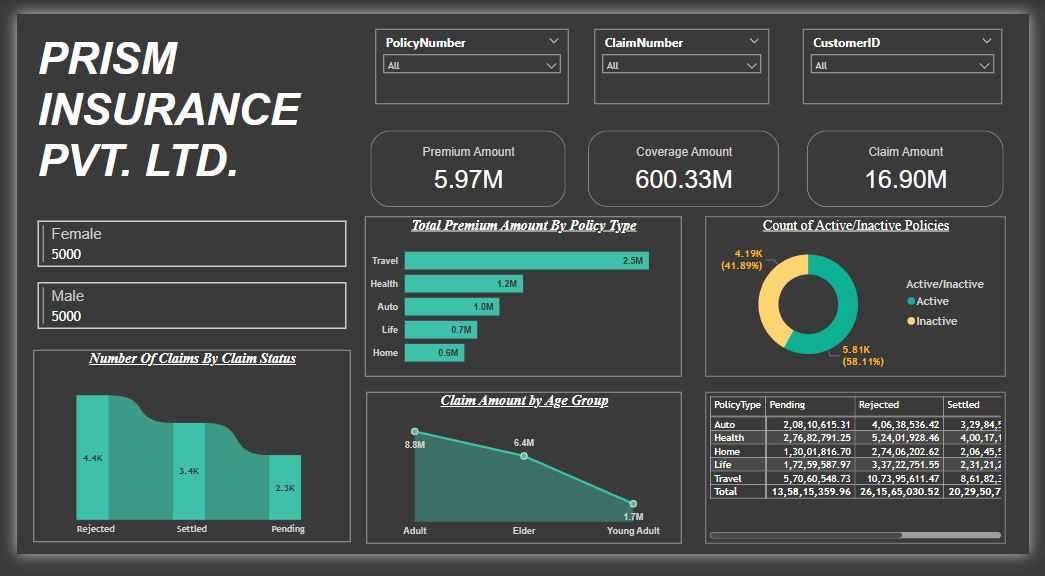

What the dashboard file says about the page in this screenshot:
{"tool":"powerbi","page":{"name":"Insurance Dashboard","canvas":[1350,720],"ordinal":0},"visuals":[{"type":"slicer","fields":{"Values":["InsuranceData.PolicyNumber"]},"box":[477.5,20,257.5,100],"z":0},{"type":"slicer","fields":{"Values":["InsuranceData.ClaimNumber"]},"box":[770,20,232.5,100],"z":1000},{"type":"slicer","fields":{"Values":["InsuranceData.CustomerID"]},"box":[1047.5,20,265,100],"z":2000},{"type":"textbox","box":[22.5,20,422.5,245],"z":3000},{"type":"cardVisual","fields":{"Data":["Sum(InsuranceData.PremiumAmount)"]},"box":[465,150,270,112.5],"z":4000},{"type":"cardVisual","fields":{"Data":["Sum(InsuranceData.CoverageAmount)"]},"box":[755,150,265,112.5],"z":5000},{"type":"cardVisual","fields":{"Data":["Sum(InsuranceData.ClaimAmount)"]},"box":[1047.1,150,272.9,112.9],"z":6000},{"type":"multiRowCard","fields":{"Values":["InsuranceData.Gender","CountNonNull(InsuranceData.Gender)"]},"box":[22.5,270,422.5,180],"z":7000},{"type":"ribbonChart","title":"Number Of Claims By Claim Status","fields":{"Category":["InsuranceData.ClaimStatus"],"Y":["CountNonNull(InsuranceData.ClaimStatus)"]},"box":[22.9,448.6,422.9,255.7],"z":8000},{"type":"barChart","title":"Total Premium Amount By Policy Type","fields":{"Y":["Sum(InsuranceData.PremiumAmount)"],"Category":["InsuranceData.PolicyType"]},"box":[464,270,422,213],"z":9000},{"type":"lineChart","title":"Claim Amount by Age Group","fields":{"Category":["InsuranceData.Age Group"],"Y":["Sum(InsuranceData.ClaimAmount)"]},"box":[466,503,420,202],"z":10000},{"type":"donutChart","title":"Count of Active/Inactive Policies","fields":{"Category":["InsuranceData.Active/Inactive"],"Y":["CountNonNull(InsuranceData.Active/Inactive)"]},"box":[918.3,270,400,213.3],"z":11000},{"type":"pivotTable","fields":{"Values":["Sum(InsuranceData.CoverageAmount)"],"Rows":["InsuranceData.PolicyType"],"Columns":["InsuranceData.ClaimStatus"]},"box":[918.3,503.3,400,201.7],"z":12000}]}

Visuals, with their boxes on the page's 1350x720 design canvas (x1, y1, x2, y2). These are canvas units, not pixel positions in the 1045x576 screenshot, which may show the page scaled, cropped or inside an application window:
slicer - InsuranceData.PolicyNumber: {"x1": 478, "y1": 20, "x2": 735, "y2": 120}
slicer - InsuranceData.ClaimNumber: {"x1": 770, "y1": 20, "x2": 1002, "y2": 120}
slicer - InsuranceData.CustomerID: {"x1": 1048, "y1": 20, "x2": 1312, "y2": 120}
textbox: {"x1": 22, "y1": 20, "x2": 445, "y2": 265}
cardVisual - Sum(InsuranceData.PremiumAmount): {"x1": 465, "y1": 150, "x2": 735, "y2": 262}
cardVisual - Sum(InsuranceData.CoverageAmount): {"x1": 755, "y1": 150, "x2": 1020, "y2": 262}
cardVisual - Sum(InsuranceData.ClaimAmount): {"x1": 1047, "y1": 150, "x2": 1320, "y2": 263}
multiRowCard - InsuranceData.Gender x CountNonNull(InsuranceData.Gender): {"x1": 22, "y1": 270, "x2": 445, "y2": 450}
"Number Of Claims By Claim Status" ribbonChart: {"x1": 23, "y1": 449, "x2": 446, "y2": 704}
"Total Premium Amount By Policy Type" barChart: {"x1": 464, "y1": 270, "x2": 886, "y2": 483}
"Claim Amount by Age Group" lineChart: {"x1": 466, "y1": 503, "x2": 886, "y2": 705}
"Count of Active/Inactive Policies" donutChart: {"x1": 918, "y1": 270, "x2": 1318, "y2": 483}
pivotTable - Sum(InsuranceData.CoverageAmount) x InsuranceData.PolicyType: {"x1": 918, "y1": 503, "x2": 1318, "y2": 705}
